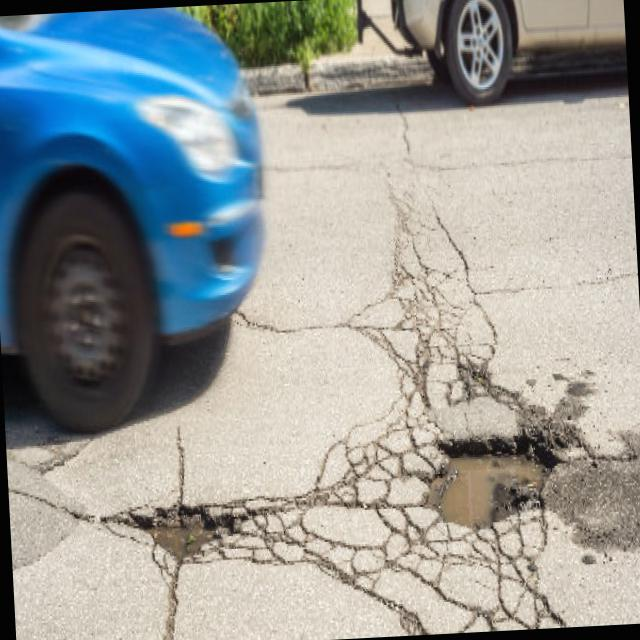bad-road: (339, 201, 503, 425), (232, 424, 420, 572), (416, 428, 568, 533), (391, 560, 568, 636), (118, 498, 238, 568)
